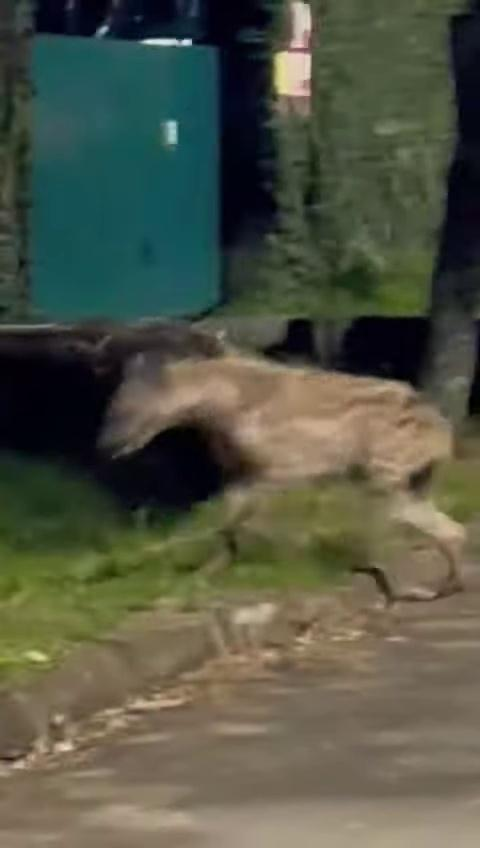hyenas: (89, 284, 480, 654)
